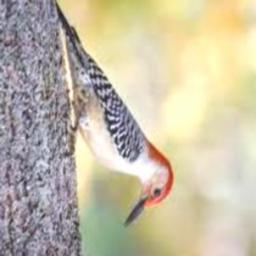Woodpecker: (54, 0, 174, 227)
